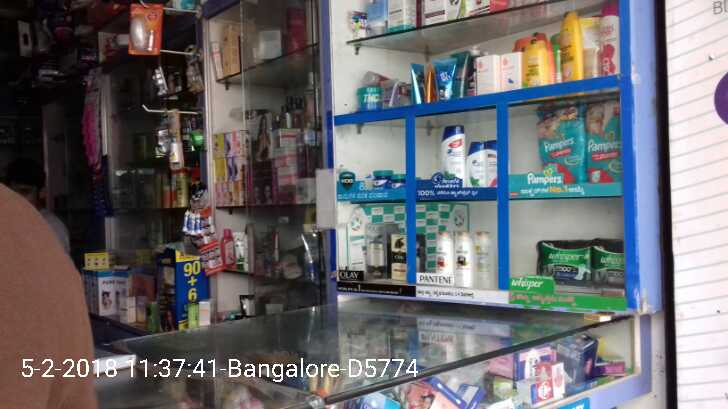beauty: (440, 124, 467, 189), (433, 229, 454, 288), (388, 231, 409, 286), (454, 231, 471, 289), (467, 140, 487, 186)
pharmacy: (533, 105, 584, 183), (537, 236, 595, 291), (584, 98, 623, 176), (594, 236, 626, 286), (370, 167, 406, 198)
